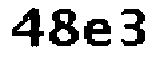3: (119, 5, 152, 52)
4: (10, 5, 46, 50)
8: (48, 6, 81, 51)
e: (83, 15, 113, 50)
